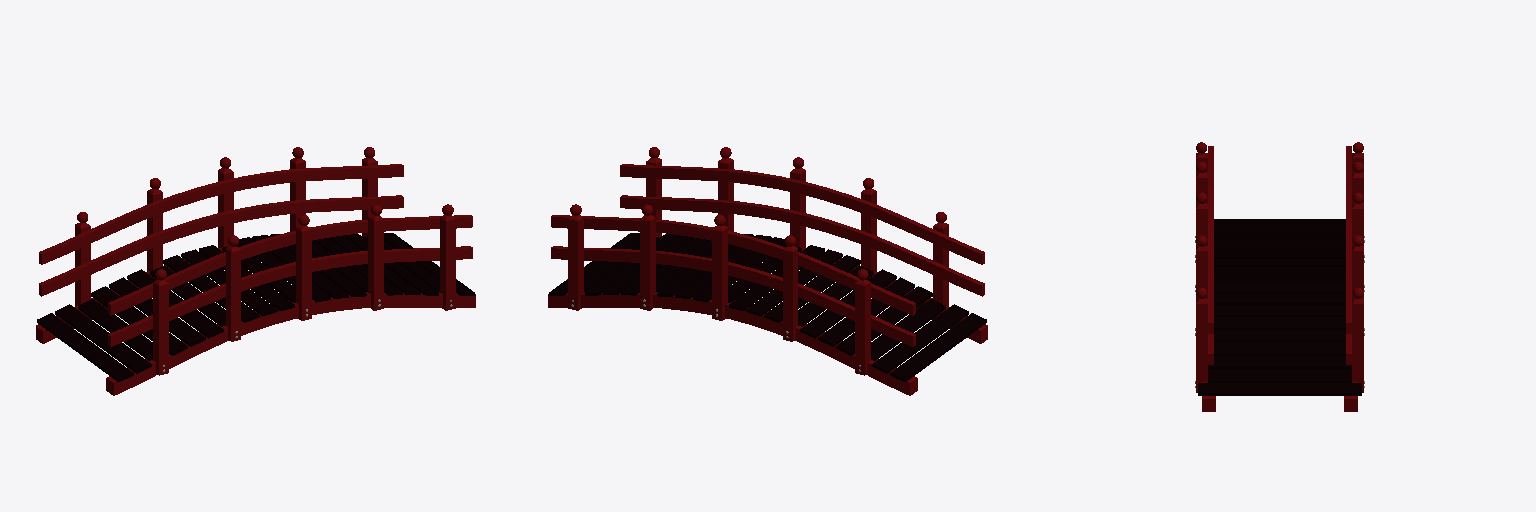
File: bridge.obj
3 renders of one model, left to right at view 1: azimuth 30°, elevation 25°; view 2: azimuth 150°, elevation 25°; view 3: azimuth 270°, elevation 25°, orthographic.
Visible parts, largest first — view 1: Cube.002; view 2: Cube.002; view 3: Cube.002.
Part boxes in pixels (left/top/right/bottom): Cube.002: left=36, top=147, right=475, bottom=395; Cube.002: left=548, top=147, right=987, bottom=395; Cube.002: left=1195, top=142, right=1364, bottom=411.
Bounding box in the file's own units: 10.12 × 3.59 × 4.11.